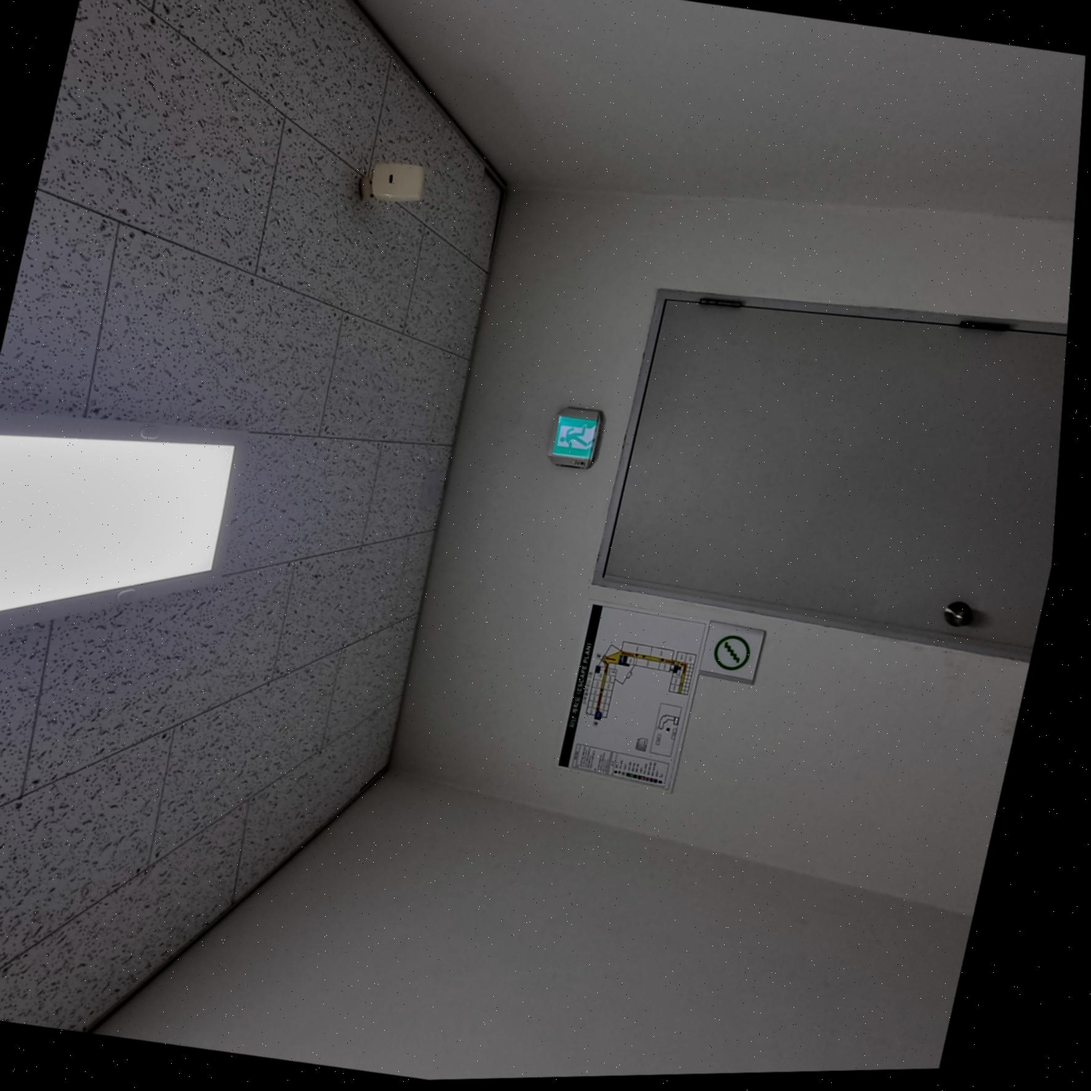emergency_exit: (558, 602, 710, 794), (699, 621, 766, 685), (547, 406, 604, 469)
